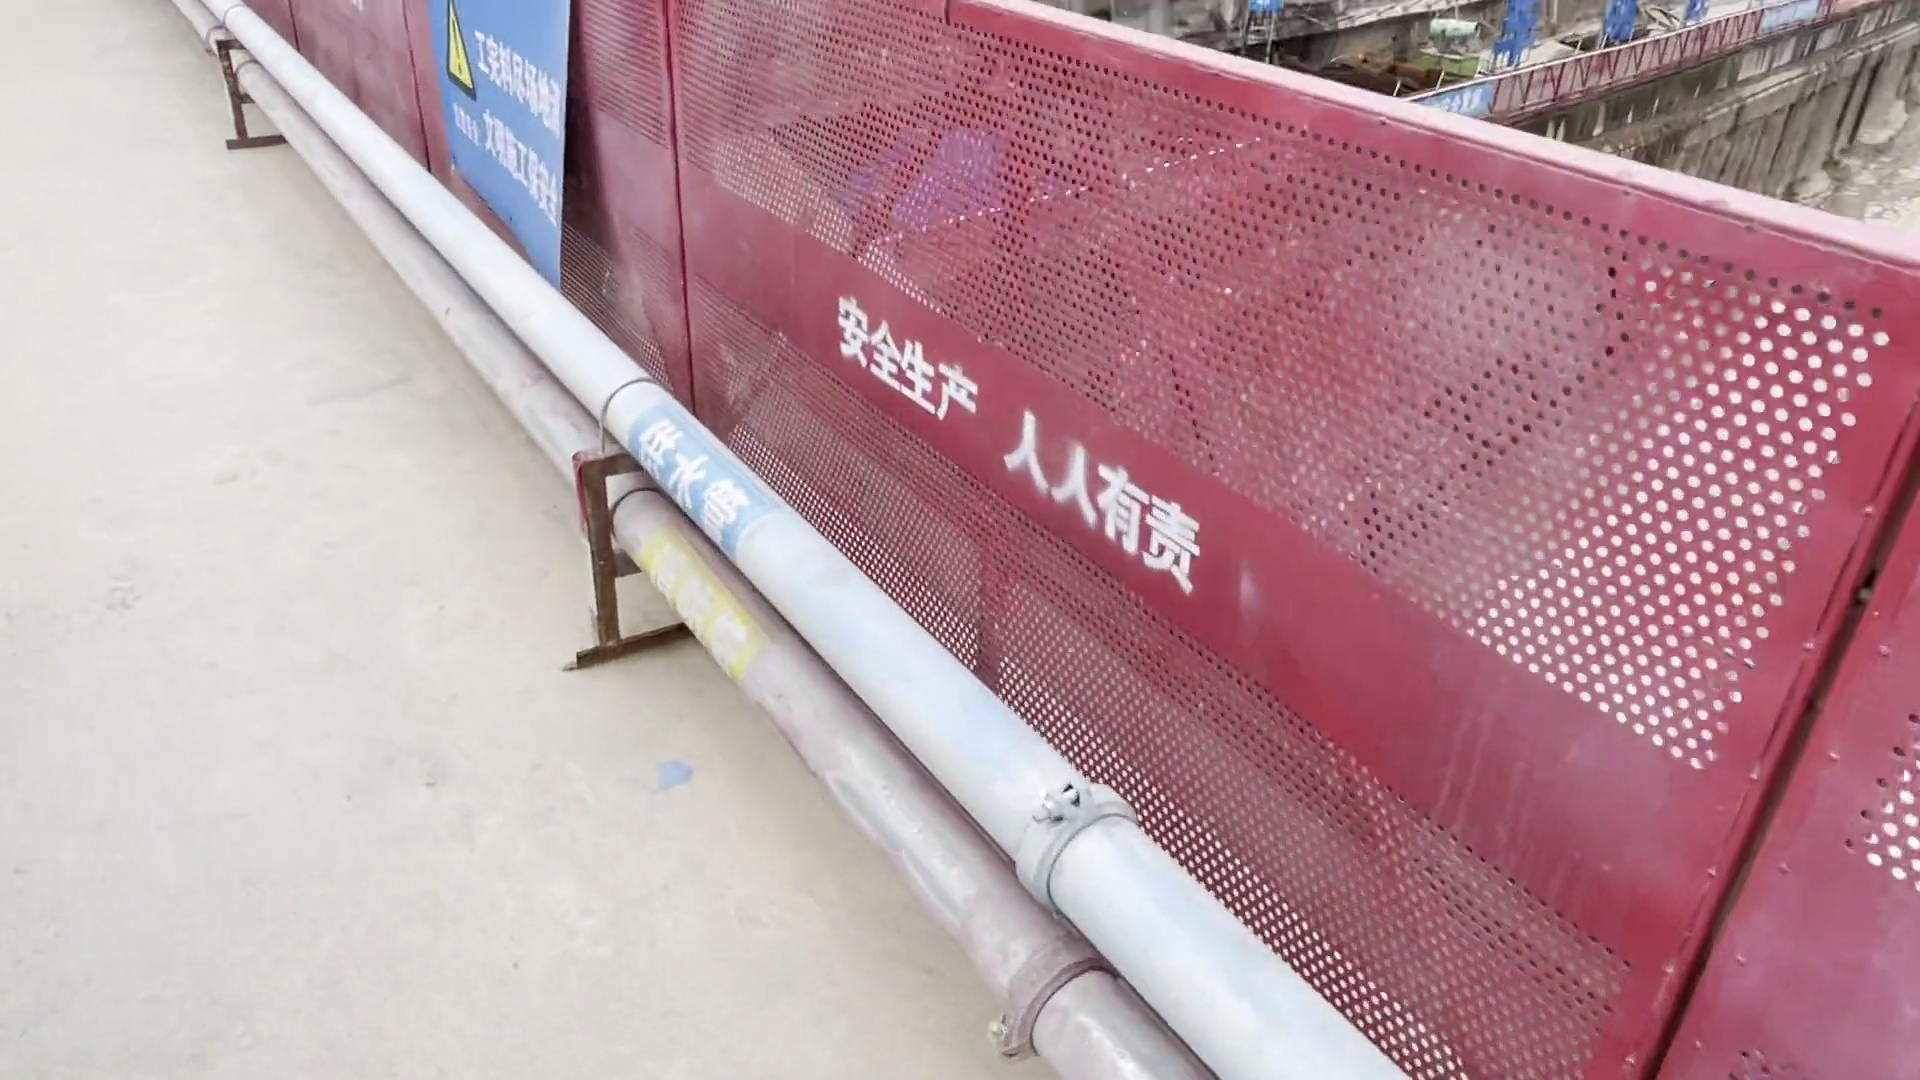fence: (864, 1, 1913, 1000)
slogan: (427, 1, 574, 284)
